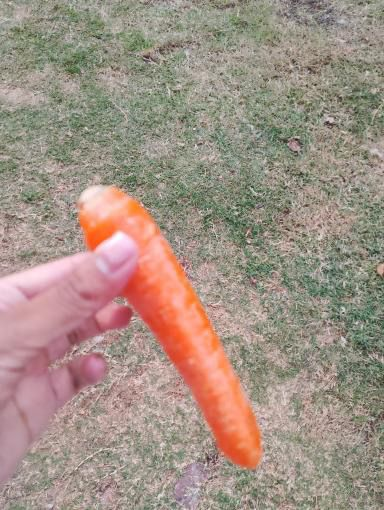carrot: (70, 176, 292, 482)
